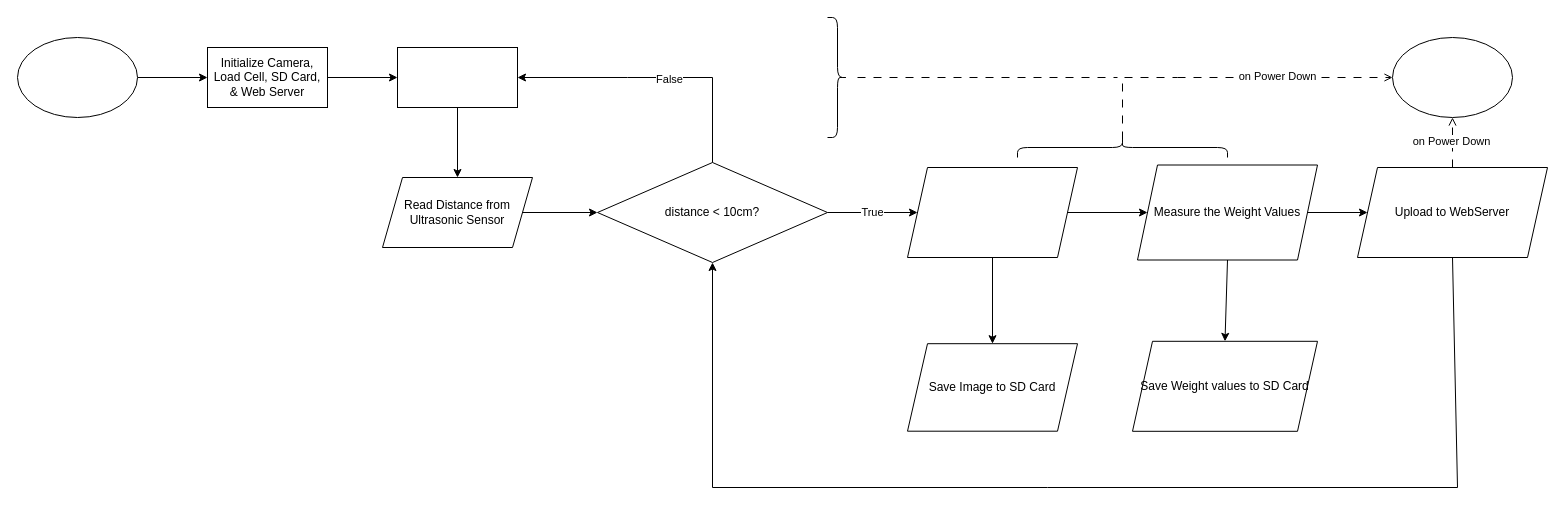
Image size: 1565x513. Some labels were removed from this diagram. Each missing label, with the centre of its shape:
"Capture the Image" goes at (992,212).
"END" goes at (1452,77).
"START" goes at (77,77).
"Tare the Scale" goes at (457,77).
